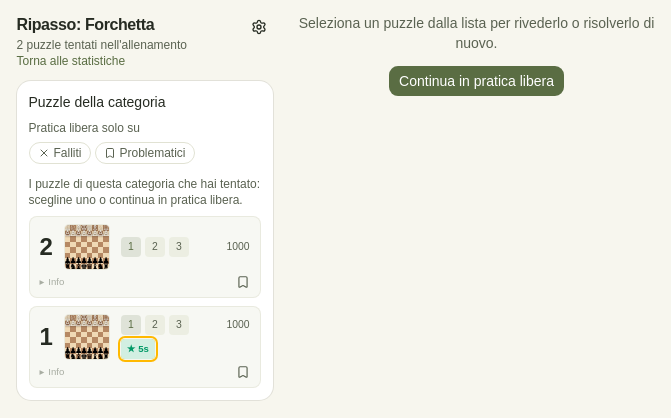
ThemePracticePage › continues after the last puzzle practiced in the list
Click the button "Continua in pratica libera": (477, 81) [388,65,565,97]
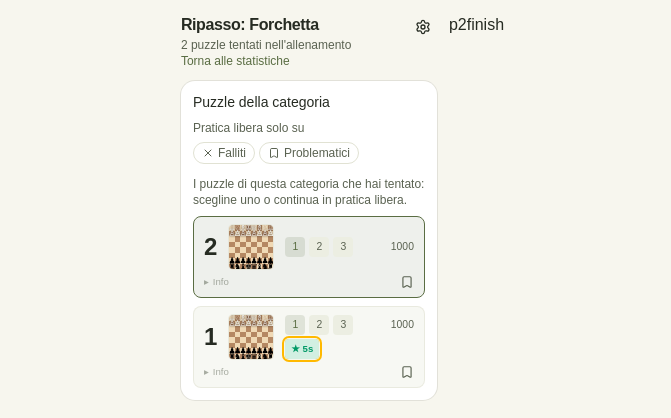
Result: the element with test id "puzzle-board" shows "p2" at [449,16,467,33]
